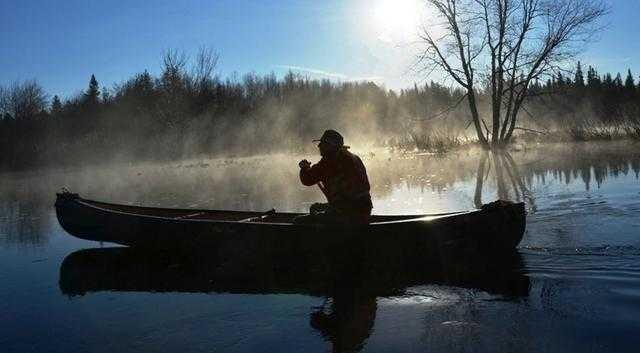kayak: (56, 191, 527, 272)
